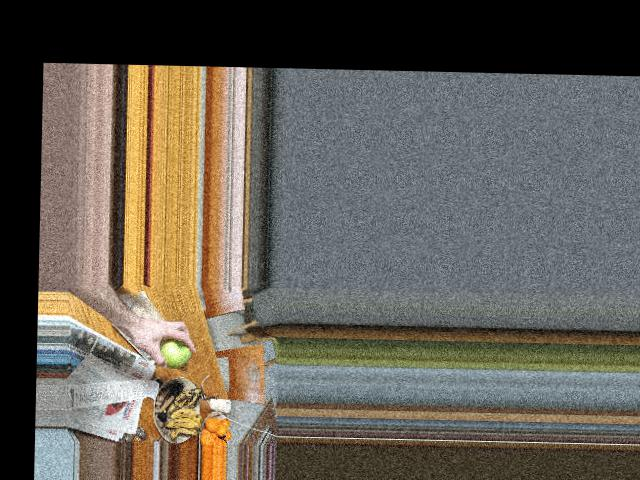apple: (154, 334, 196, 369)
